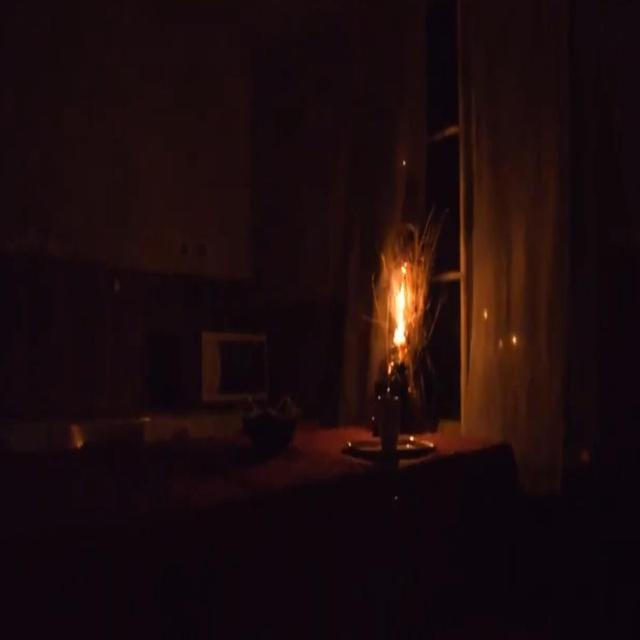smoke: (386, 258, 414, 351)
